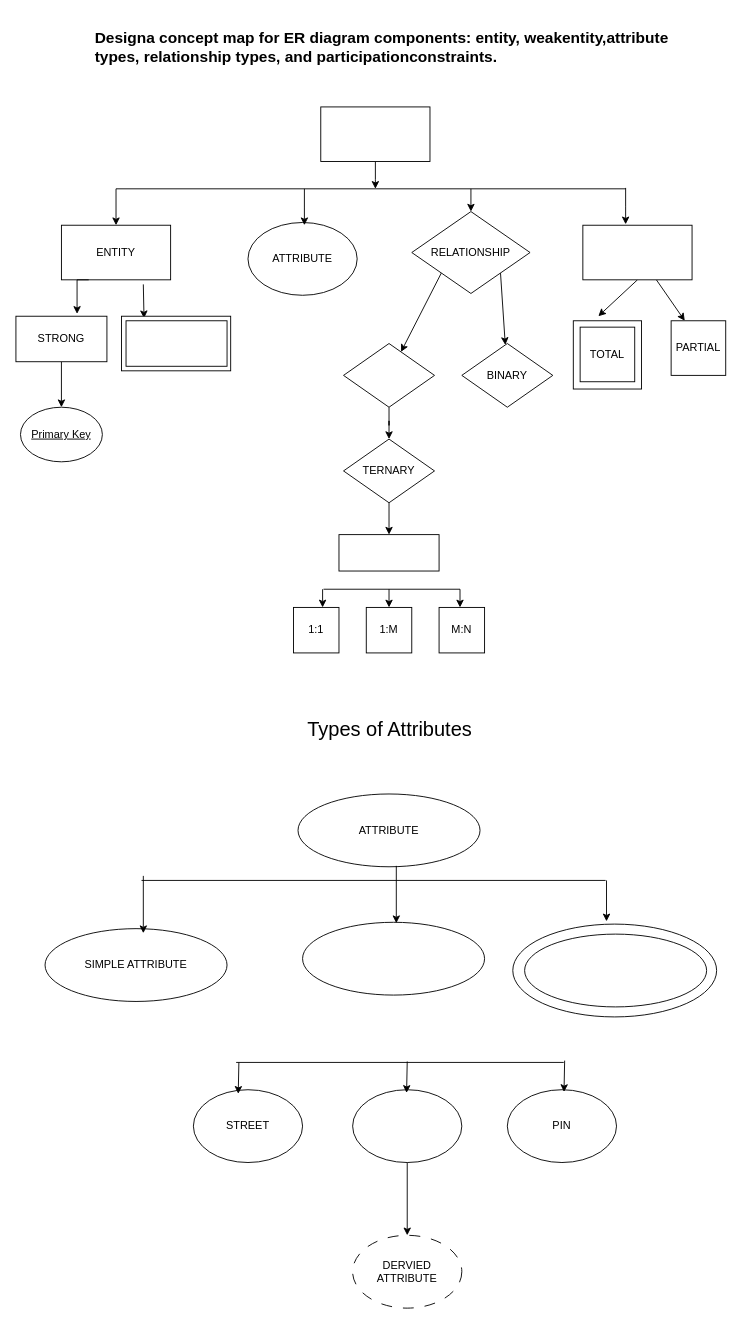
Image size: 742x1324. Some labels were removed from this diagram. The shapes that lost their labels are listed below. From the top down, each one's centre as x and y in pixels, then its label:
At point 375,134: "ER DIAGRAM".
At point 637,252: "PARTICIPATION CONSTRAINTS".
At point 176,343: "WEAK".
At point 389,375: "UNARY".
At point 388,552: "HAS CARDINALITY".
At point 393,958: "COMPLEX ATTRIBUTE".
At point 615,970: "MULTI VALUED ATTRIBUTE".
At point 407,1126: "CITY".
